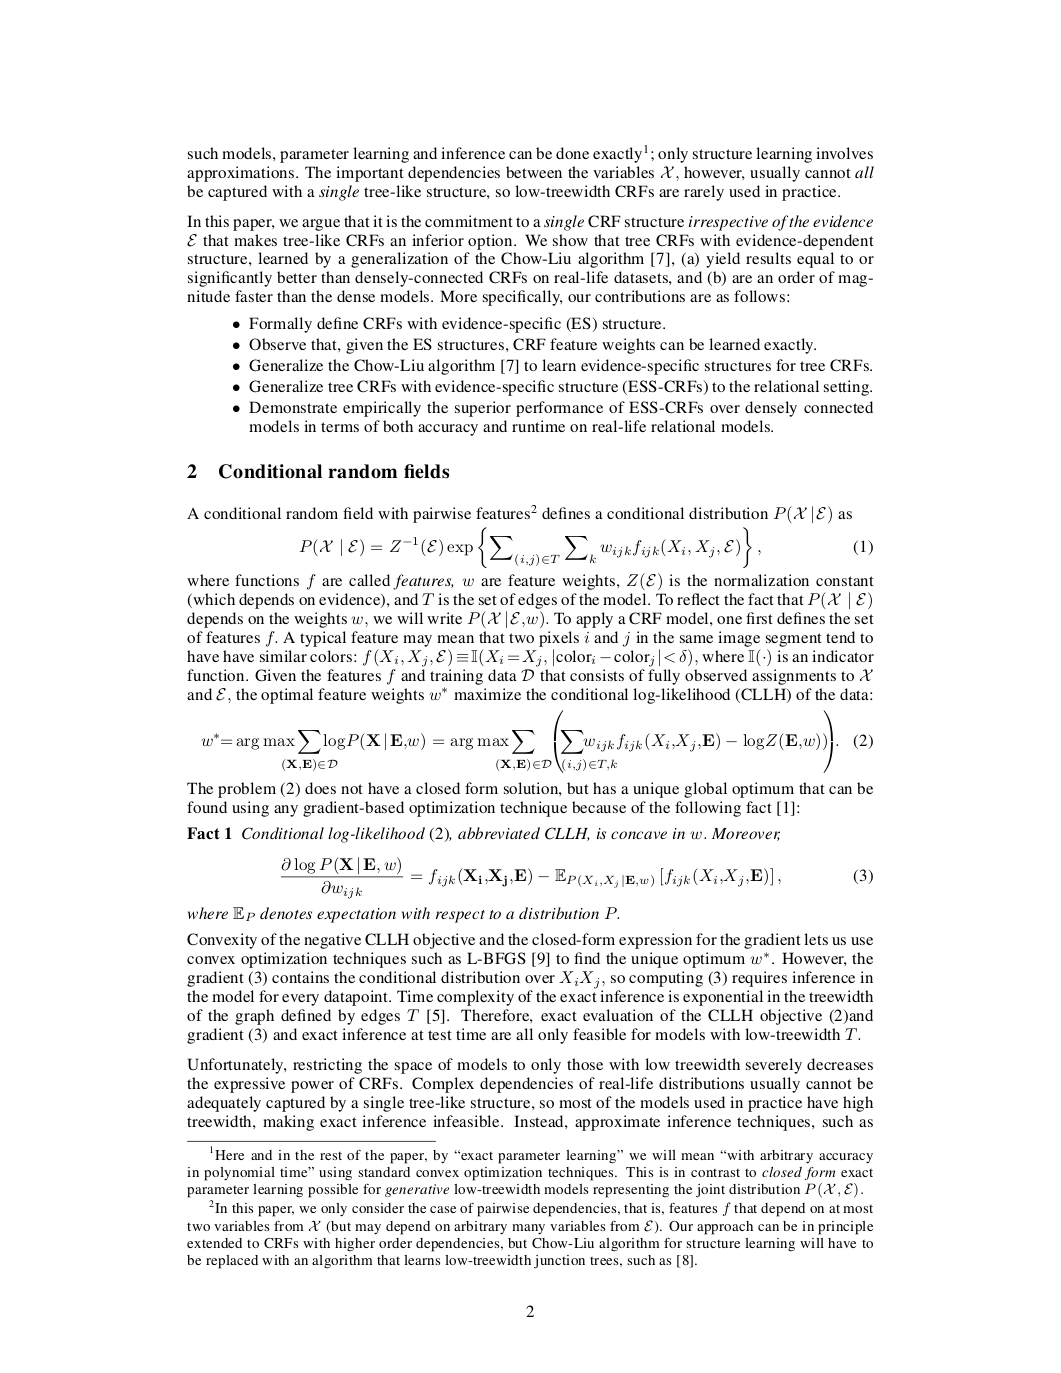formula: (201, 709, 872, 773), (280, 856, 872, 899), (299, 526, 872, 568)
